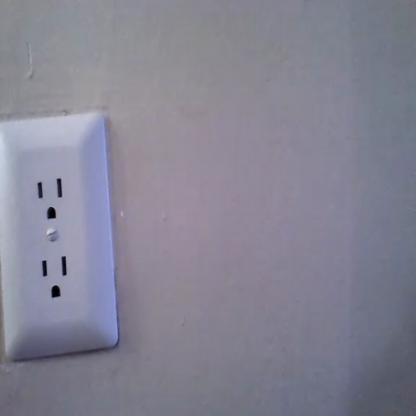OUTLET: (0, 114, 118, 357)
